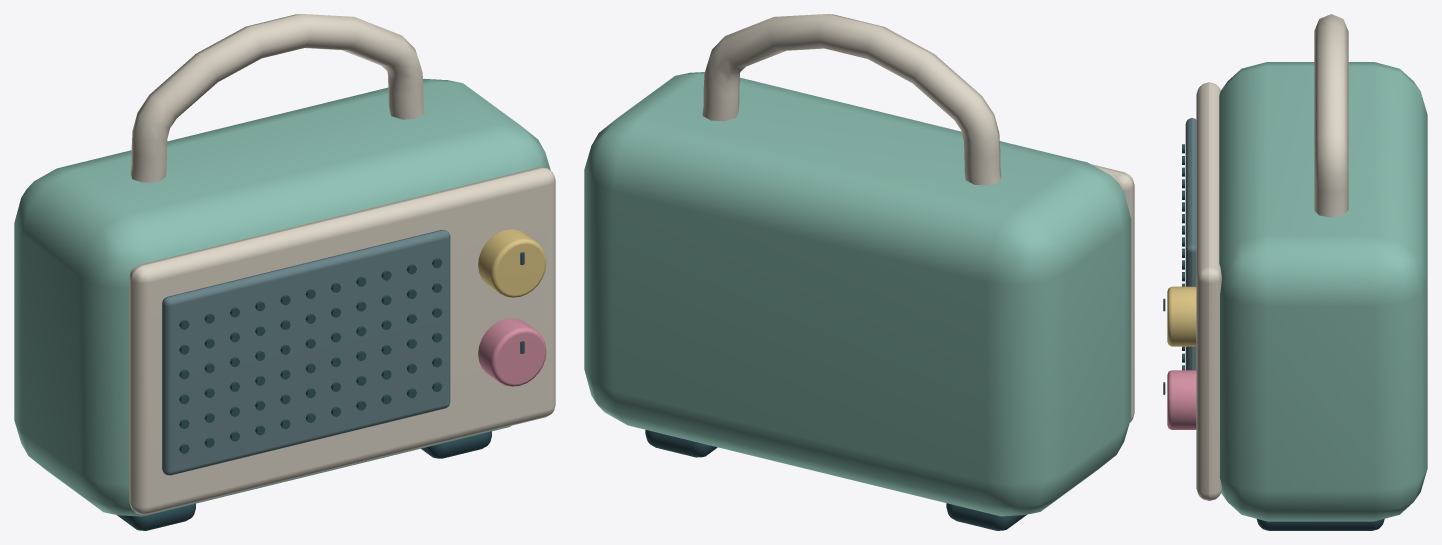
Rendered from lm_retro_speaker.glb.
3 renders of one model, left to right at view 1: azimuth 30°, elevation 25°; view 2: azimuth 150°, elevation 25°; view 3: azimuth 270°, elevation 25°, orthographic. The views are drawn at different scales.
Visible parts, largest first — view 1: prop; view 2: prop; view 3: prop.
Part boxes in pixels (x1=…): prop: x1=14, y1=14, x2=555, y2=530; prop: x1=584, y1=14, x2=1134, y2=530; prop: x1=1163, y1=14, x2=1427, y2=530.
Bounding box in the file's own units: 0.236 × 0.2153 × 0.1235.
